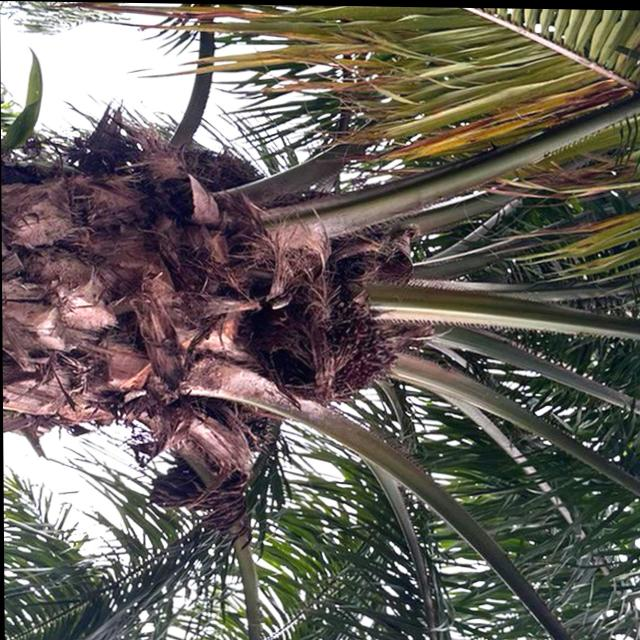ripe: (266, 279, 396, 399)
